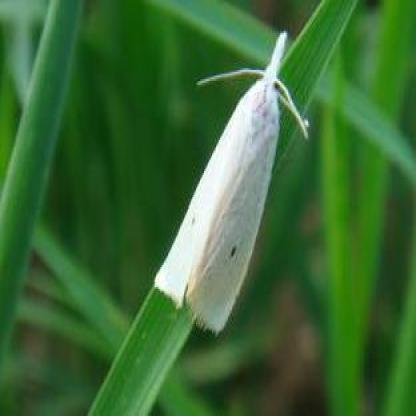stem-borer: (152, 26, 310, 340)
